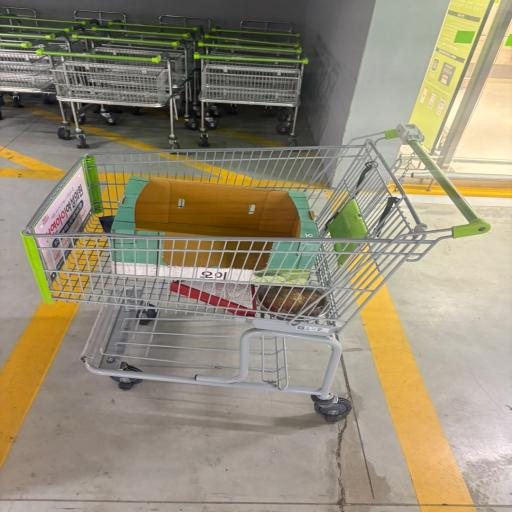combined_cart: (33, 8, 223, 154), (188, 15, 313, 148)
fully_cart: (5, 121, 499, 428)
